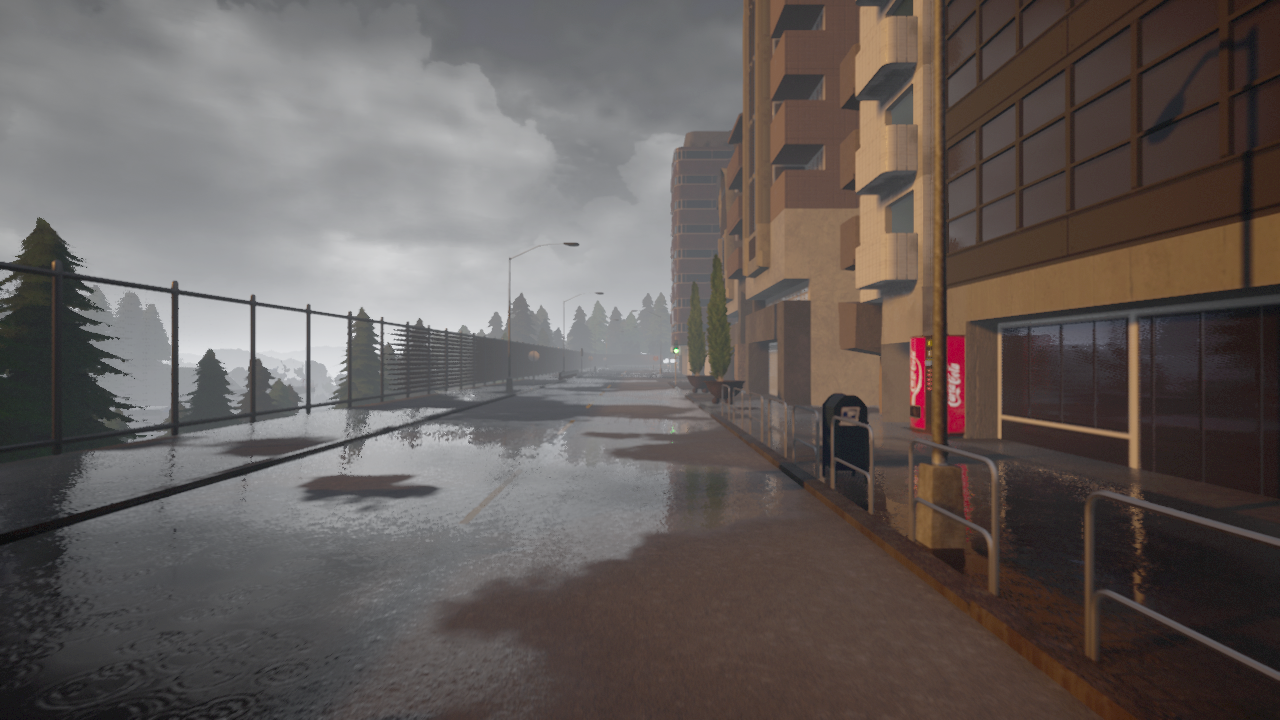green: (672, 339, 679, 354)
